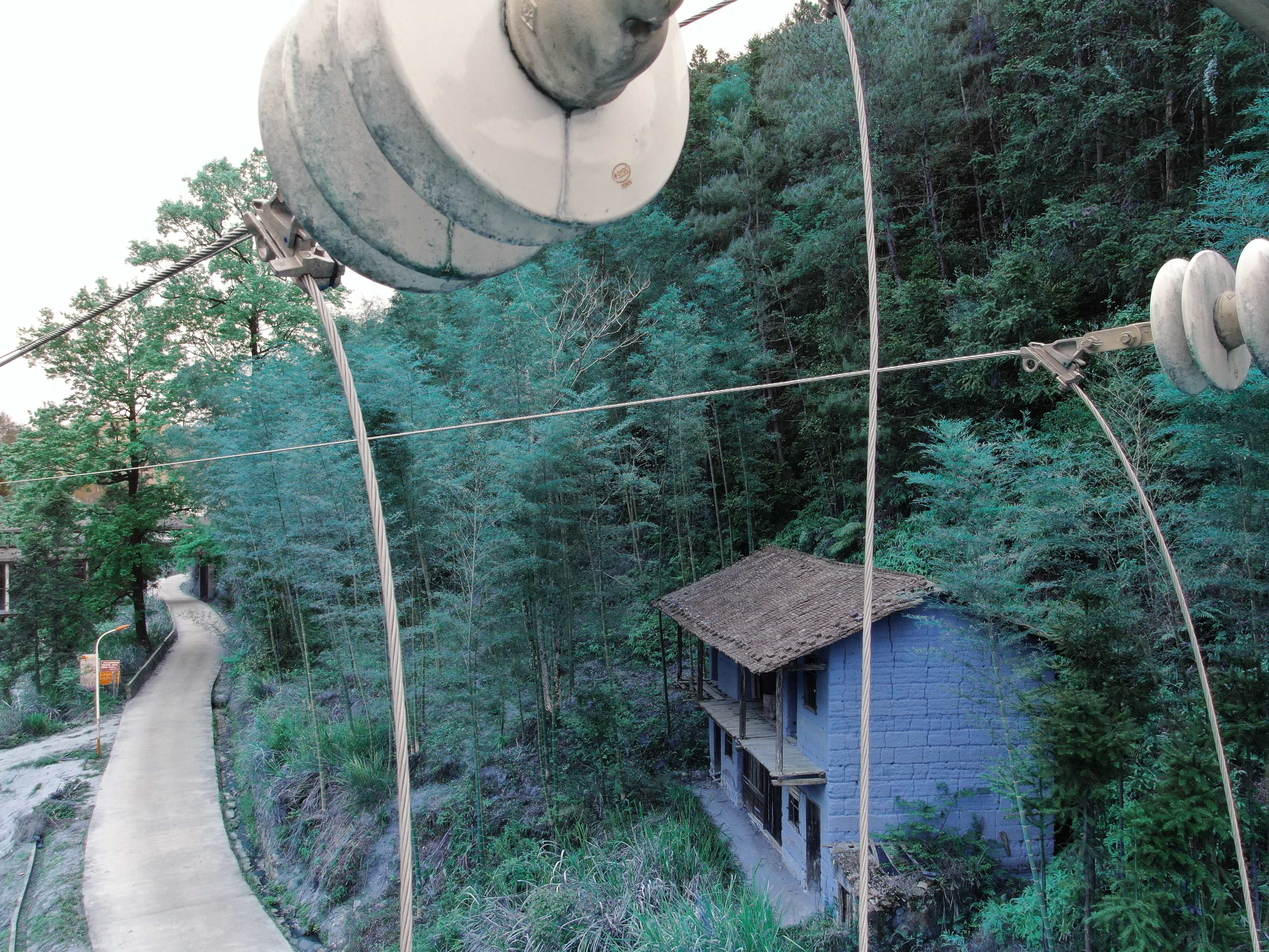severe_soiling_no_discharge_whole: (250, 3, 694, 299), (1147, 234, 1268, 399)
